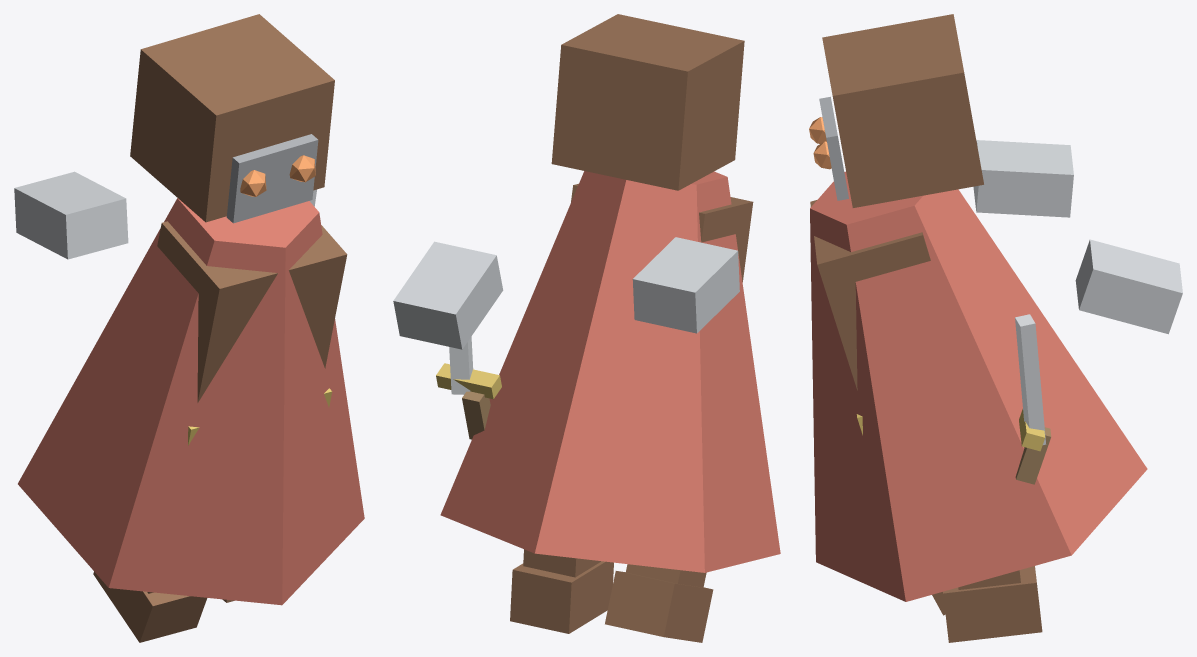
The model's file is npcpose_raider_idle_06.glb.
3 views of the same model, side by side, from view 1: azimuth 30°, elevation 25°; view 2: azimuth 150°, elevation 25°; view 3: azimuth 270°, elevation 25° (orthographic). The views are drawn at different scales.
Parts seen in each view (by area): view 1: npcpose; view 2: npcpose; view 3: npcpose.
Boxes of the visible parts, box(x1,y1,x2,y2) form: npcpose: box(14, 14, 364, 642); npcpose: box(393, 14, 780, 642); npcpose: box(809, 14, 1182, 642).
Bounding box in the file's own units: 0.8162 × 1.63 × 0.9523.
